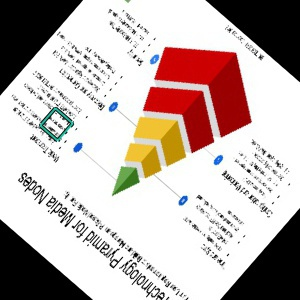square: (37, 104, 77, 143)
